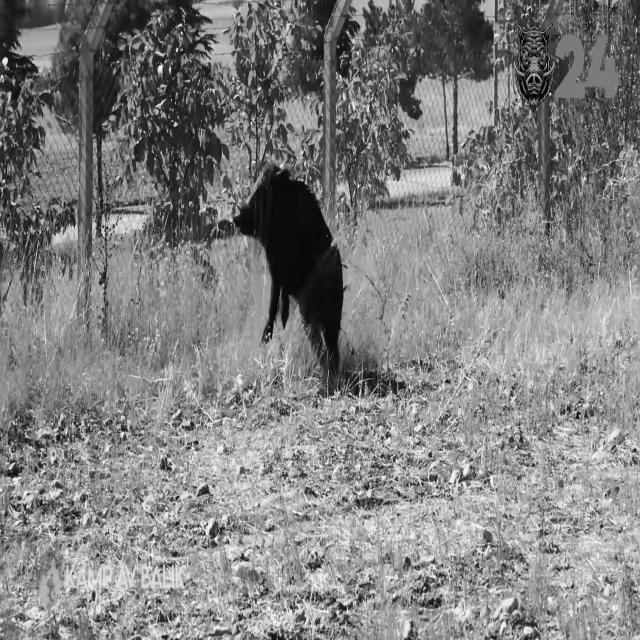boar: (234, 165, 343, 370)
